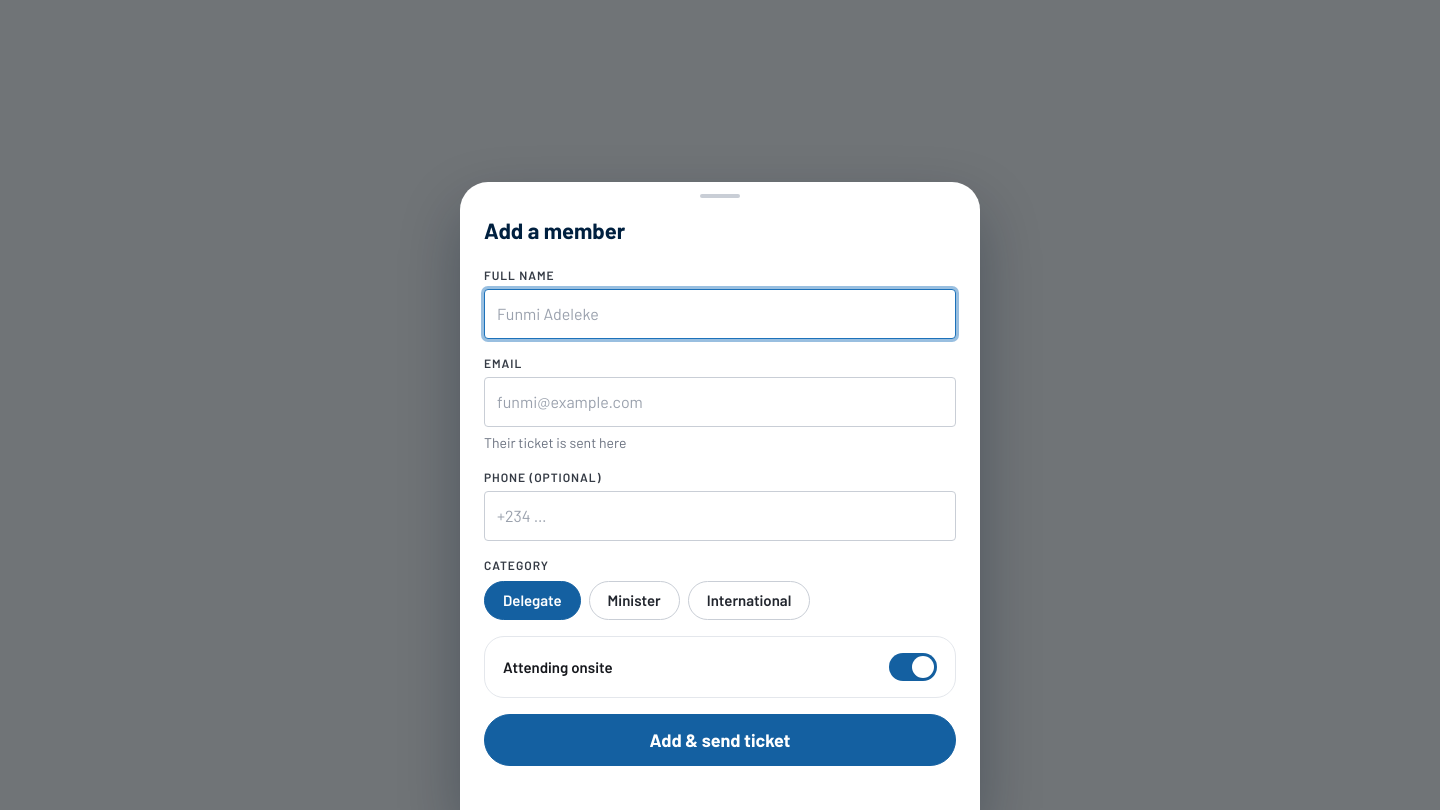
Test: MemberSheet › shows the server's reason, such as an email that is already registered
Type "Ruth Oyelaran" into the field labelled "Full name" at (720, 314), box [497, 290, 943, 338]
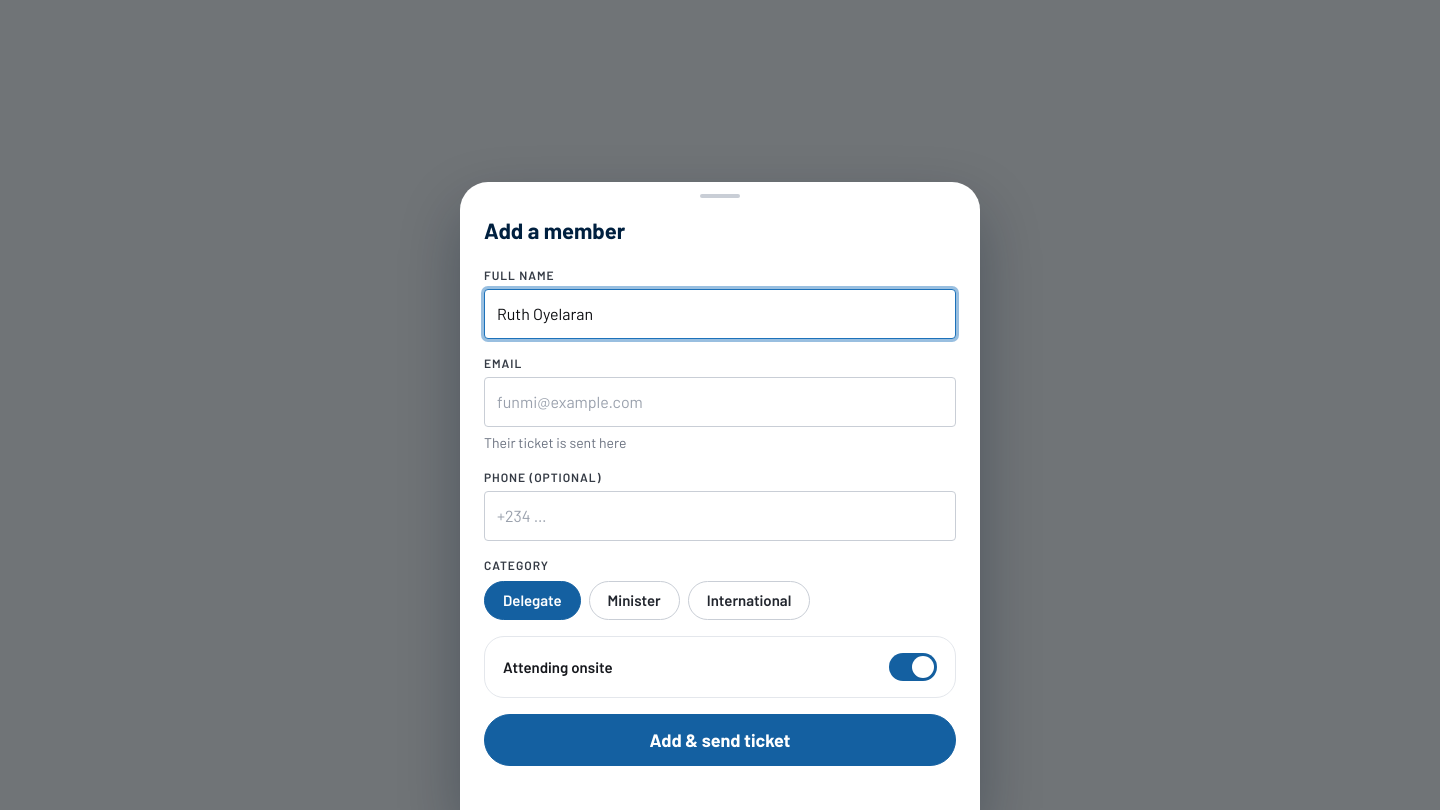
Type "ruth@example.com" into the field labelled "Email" at (720, 402), box [497, 378, 943, 426]
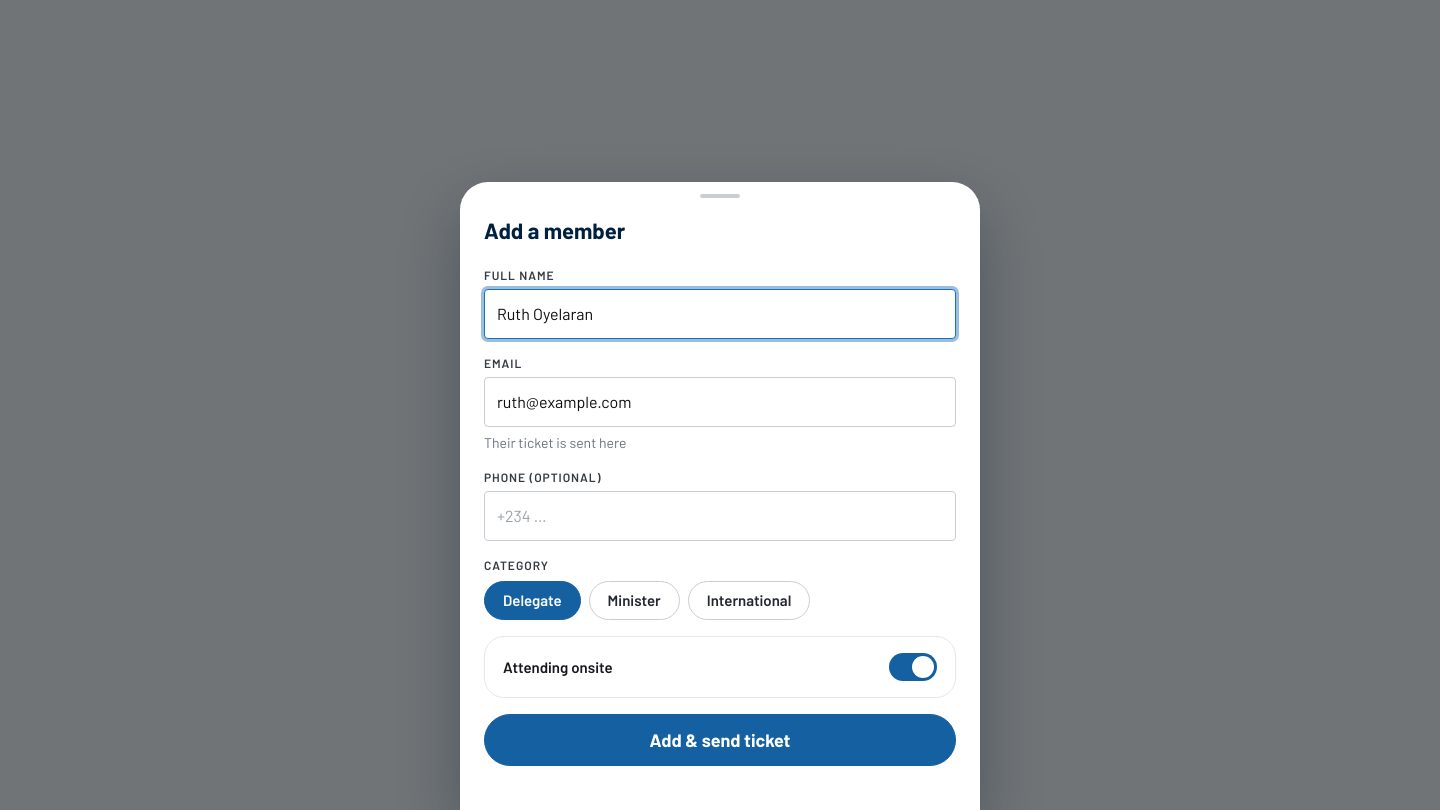
Click the button "Add & send ticket" at (720, 740), box [484, 714, 956, 766]
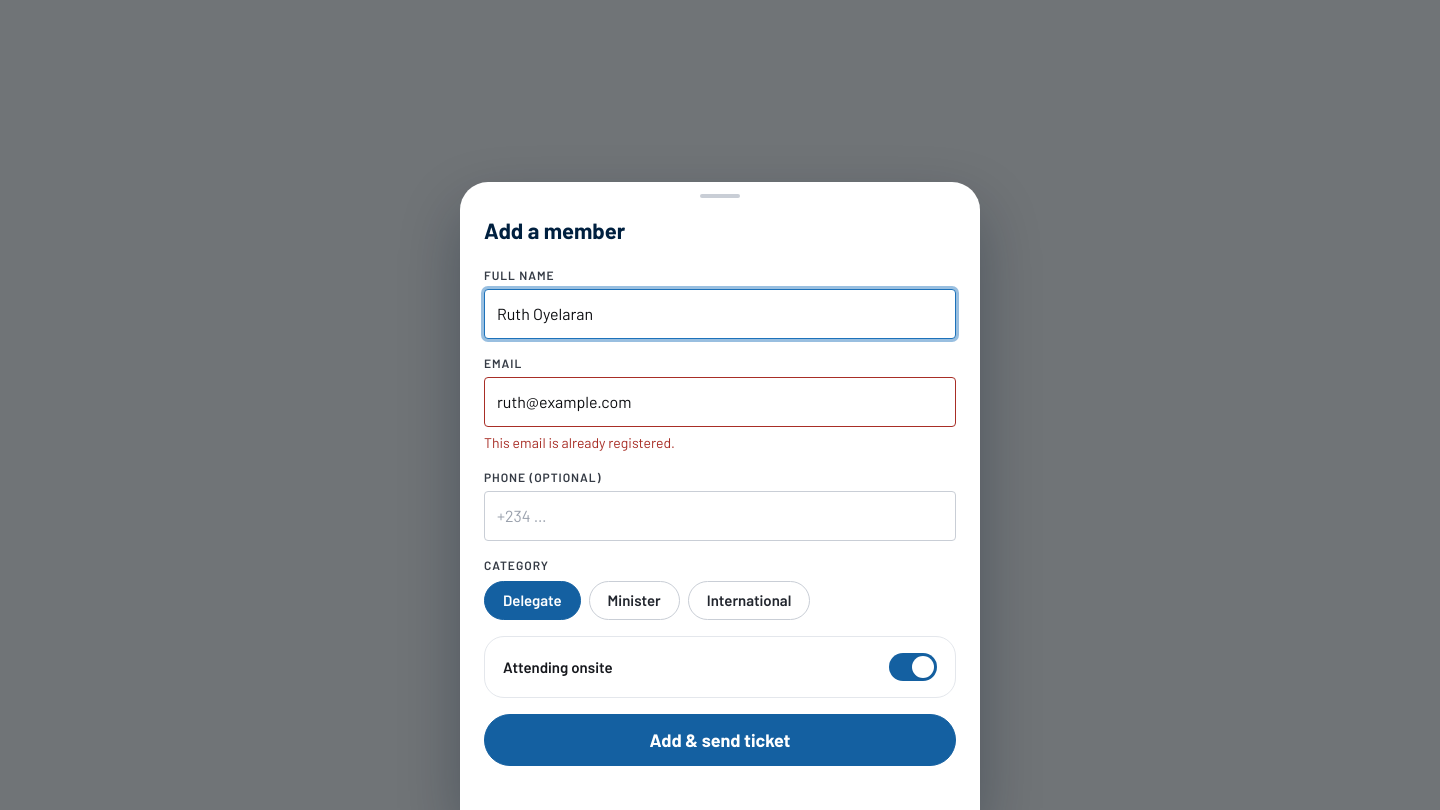
Expected: the text "This email is already registered." is shown, [484, 434, 675, 451]
